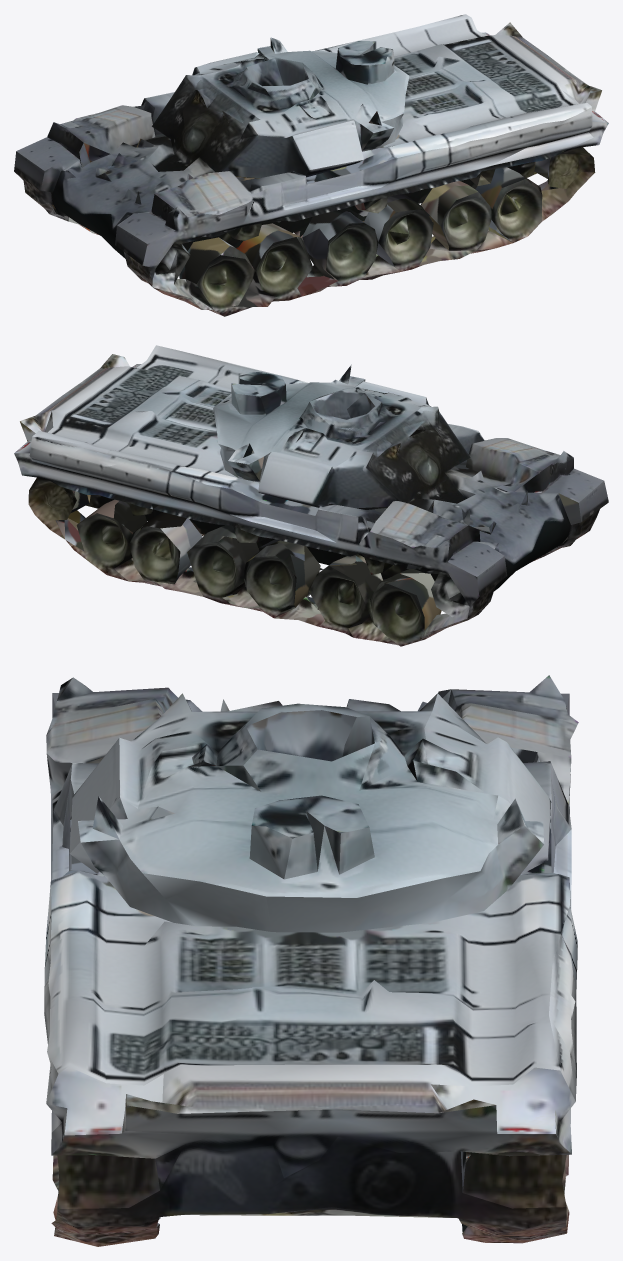
Rendered from avre.glb.
The picture shows the model from 3 angles, top to bottom: view 1: azimuth 30°, elevation 25°; view 2: azimuth 150°, elevation 25°; view 3: azimuth 270°, elevation 25°; orthographic projection. The views are drawn at different scales.
Visible parts, largest first — view 1: tmp2v_94x7t.ply; view 2: tmp2v_94x7t.ply; view 3: tmp2v_94x7t.ply.
Boxes of the visible parts, box(x1,y1,x2,y2) form: tmp2v_94x7t.ply: box(14, 14, 608, 316); tmp2v_94x7t.ply: box(14, 345, 608, 646); tmp2v_94x7t.ply: box(44, 675, 578, 1246).
Size of the model in its own units: 1.96 by 0.677 by 0.9473.
Materials: 1 (1 with a texture image).
